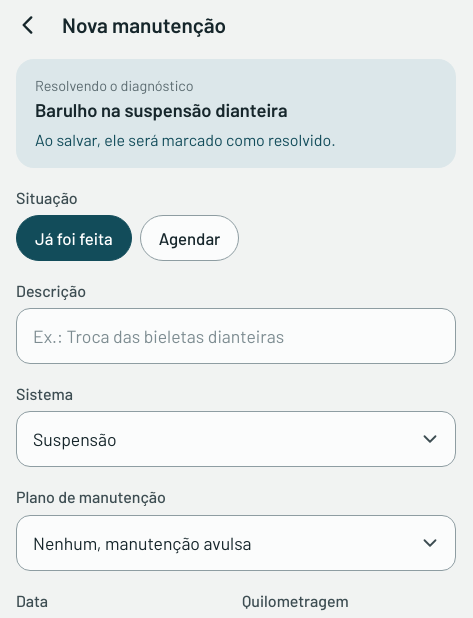
Scenario: Resolver com uma manutenção nova › agendando, explica que o diagnóstico continua aberto até a conclusão
The image size is (473, 618).
Click the radio button labelled "Agendar" at (190, 238), box [140, 215, 239, 261]
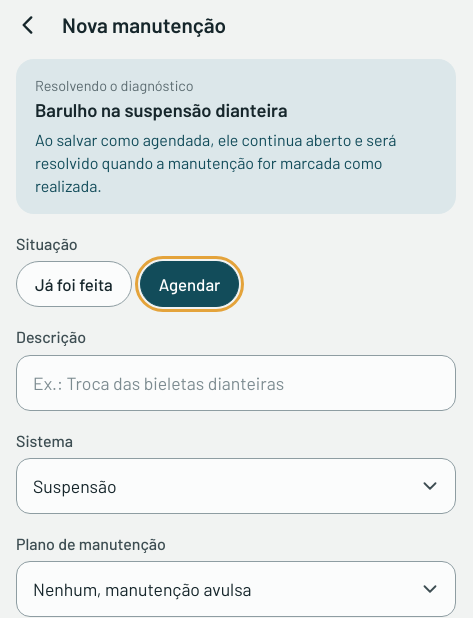
Expected: the text "continua aberto e será resolvido quando a manutenção for marcada como realizada" is shown, [35, 130, 396, 195]
